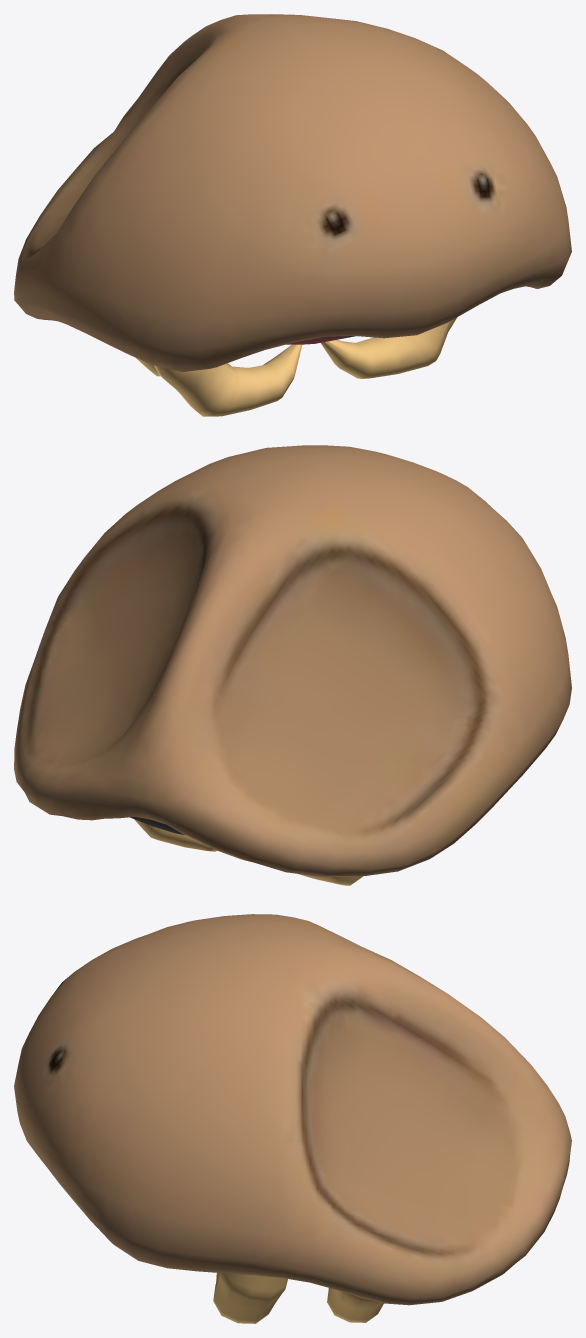
3 renders of one model, top to bottom at view 1: azimuth 30°, elevation 25°; view 2: azimuth 150°, elevation 25°; view 3: azimuth 270°, elevation 25°, orthographic. The views are drawn at different scales.
Visible parts, largest first — view 1: Object_4; view 2: Object_4; view 3: Object_4.
Part boxes in pixels (x1=…): Object_4: x1=14, y1=14, x2=571, y2=416; Object_4: x1=14, y1=445, x2=571, y2=885; Object_4: x1=14, y1=914, x2=571, y2=1323.
Bounding box in the file's own units: 49.75 × 35.25 × 52.45.
Materials: 2 (2 with a texture image).
